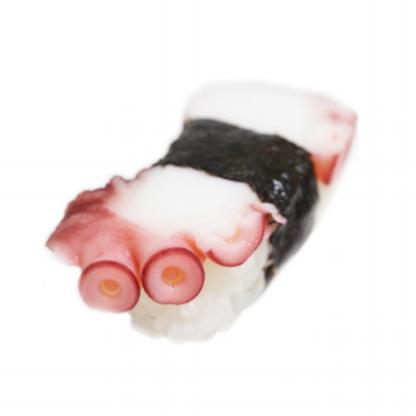tako: (33, 79, 358, 352)
